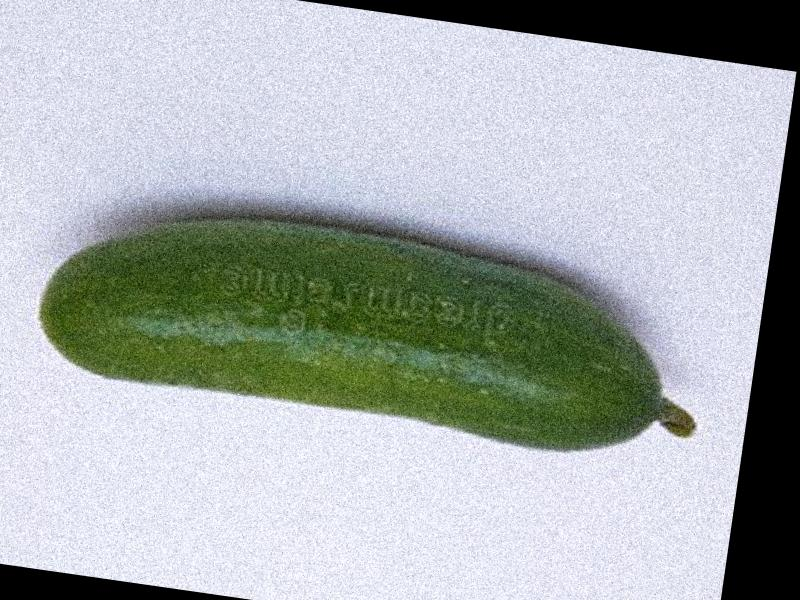Cucumber: (29, 186, 716, 469)
